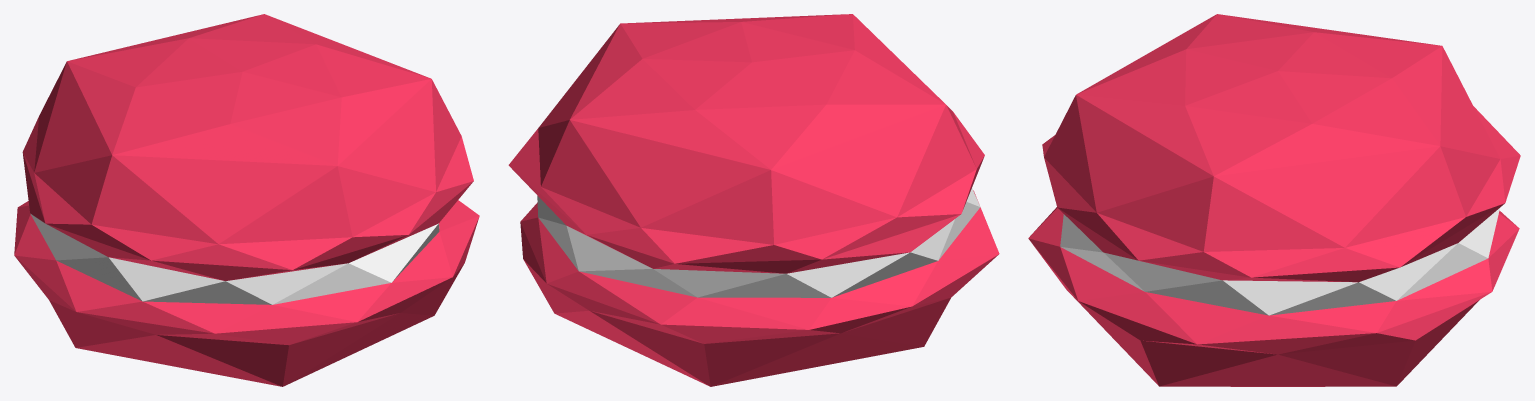
Rendered from macaron_pink2.fbx.
3 renders of one model, left to right at view 1: azimuth 30°, elevation 25°; view 2: azimuth 150°, elevation 25°; view 3: azimuth 270°, elevation 25°, orthographic. The views are drawn at different scales.
Visible parts, largest first — view 1: macaronpink2; view 2: macaronpink2; view 3: macaronpink2.
Boxes of the visible parts, bbox=[...] form: macaronpink2: bbox=[14, 14, 479, 386]; macaronpink2: bbox=[508, 14, 999, 386]; macaronpink2: bbox=[1028, 14, 1520, 386].
Bounding box in the file's own units: 4.97 × 3.07 × 5.02.
